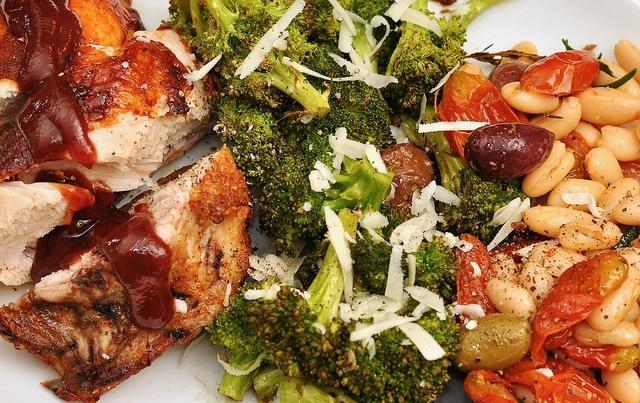broccoli: (247, 242, 350, 388), (215, 14, 334, 124), (282, 41, 397, 152), (337, 304, 462, 403), (379, 1, 468, 116), (292, 156, 394, 242), (208, 92, 294, 188), (425, 130, 501, 232), (190, 2, 269, 65), (258, 166, 308, 258), (400, 235, 458, 296), (349, 222, 392, 296), (262, 0, 317, 42), (429, 9, 487, 48), (280, 377, 338, 403), (356, 0, 396, 22)
tomato: (528, 250, 628, 367), (438, 70, 530, 168), (501, 354, 612, 403), (520, 50, 600, 98), (380, 143, 434, 214), (456, 233, 500, 315), (463, 369, 522, 403), (558, 340, 620, 370), (559, 129, 592, 180), (490, 237, 547, 262), (488, 60, 530, 92), (618, 159, 640, 182), (512, 108, 530, 124)
